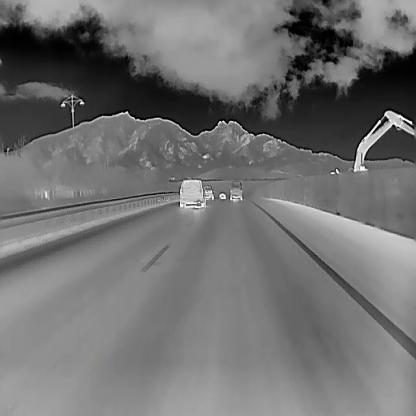car: (179, 177, 205, 208), (229, 179, 243, 202), (202, 184, 214, 201), (218, 189, 226, 200)
